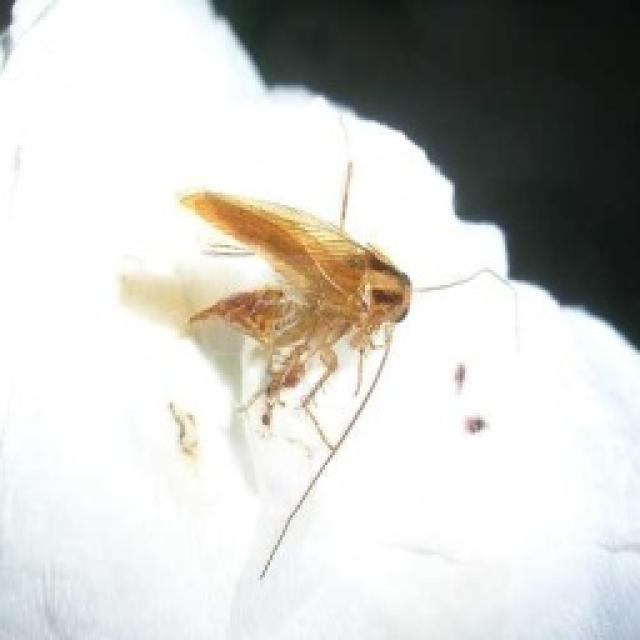cockroach: (174, 170, 448, 422)
